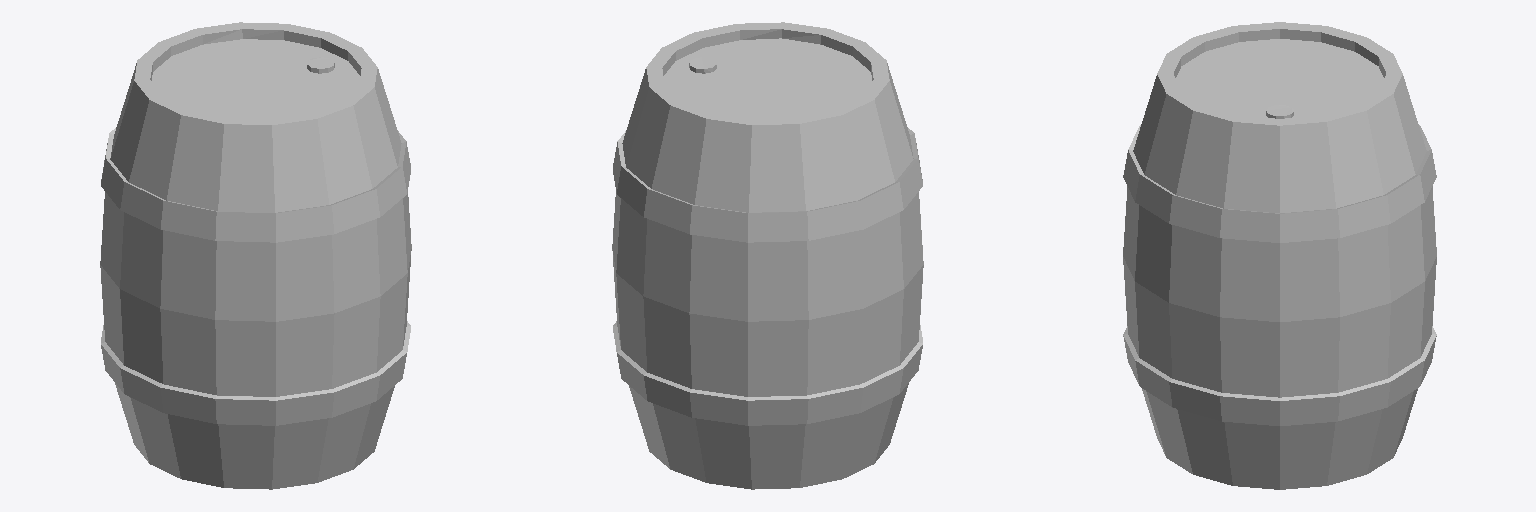
File: Barrel.obj
The picture shows the model from 3 angles: view 1: azimuth 30°, elevation 25°; view 2: azimuth 150°, elevation 25°; view 3: azimuth 270°, elevation 25°; orthographic projection.
Visible parts, largest first — view 1: Cylinder; view 2: Cylinder; view 3: Cylinder.
Boxes of the visible parts, box(x1,y1,x2,y2) form: Cylinder: box(100, 22, 411, 489); Cylinder: box(612, 22, 923, 489); Cylinder: box(1123, 22, 1436, 489).
Size of the model in its own units: 0.7035 by 0.9 by 0.7035.